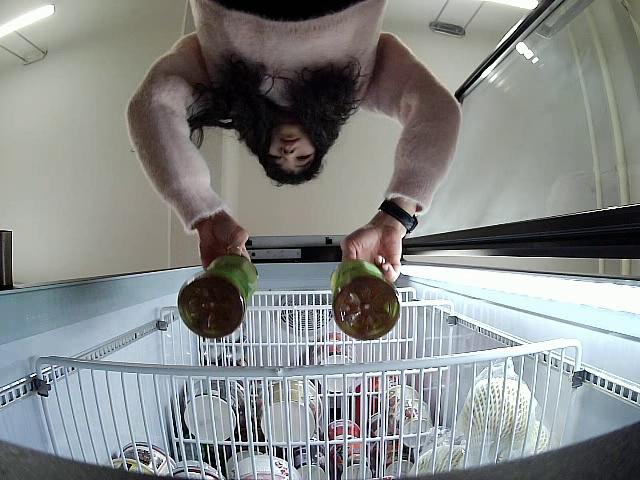00_hand: (339, 216, 403, 284), (198, 209, 250, 276)
19_17cha: (178, 254, 258, 339), (325, 257, 399, 341)
